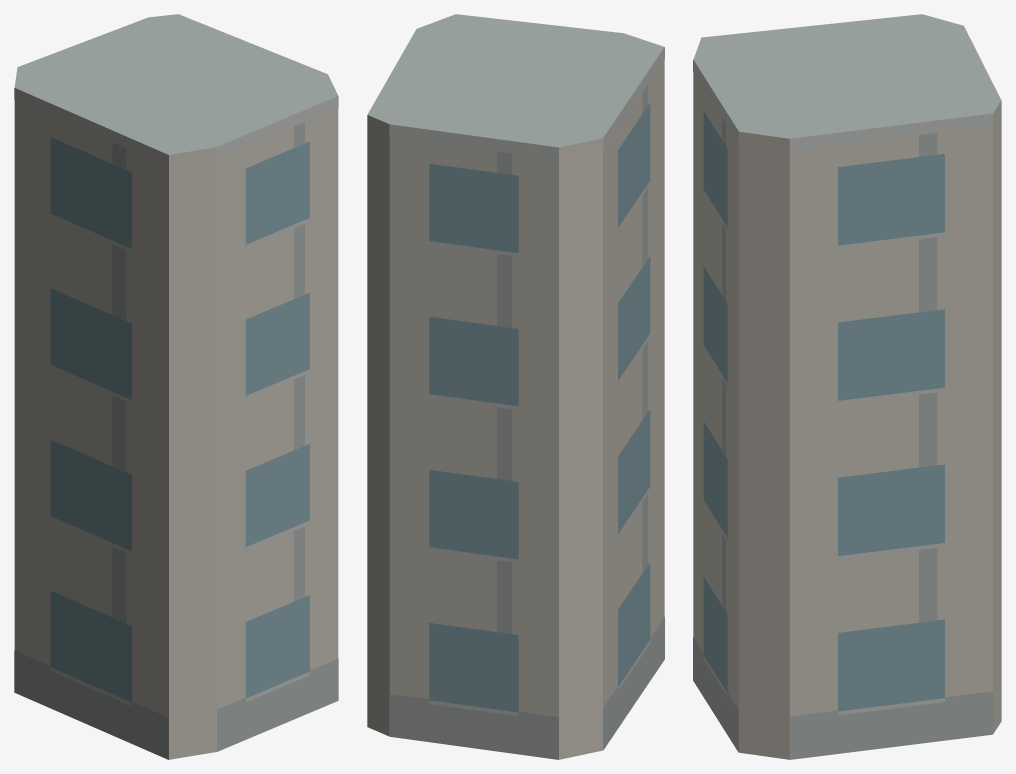
The model's file is survey-upis-32645581.glb.
The picture shows the model from 3 angles, left to right: view 1: azimuth 30°, elevation 25°; view 2: azimuth 150°, elevation 25°; view 3: azimuth 270°, elevation 25°; orthographic projection. The views are drawn at different scales.
Parts seen in each view (by area): view 1: survey-upis-32645581.tmp; view 2: survey-upis-32645581.tmp; view 3: survey-upis-32645581.tmp.
Boxes of the visible parts, <box> form: survey-upis-32645581.tmp: <box>14,14,338,759</box>; survey-upis-32645581.tmp: <box>367,14,664,759</box>; survey-upis-32645581.tmp: <box>693,14,1001,759</box>.
Size of the model in its own units: 5.26 by 12.2 by 5.5.
